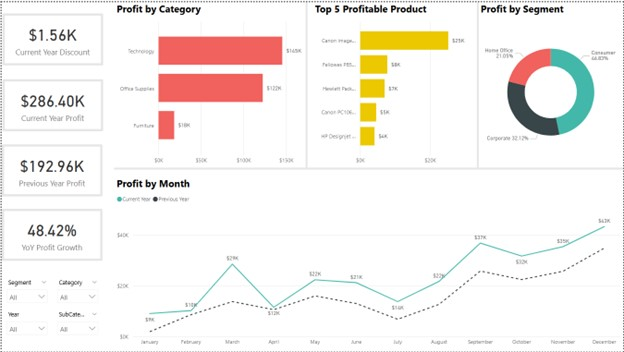

The page's visual inventory and layout, read from the dashboard file:
{"tool":"powerbi","page":{"name":"Profits","canvas":[1280,720],"ordinal":0},"visuals":[{"type":"clusteredBarChart","title":"Profit by Category","fields":{"Category":["superstore.Category"],"Y":["Sum(superstore.Profit)"]},"box":[231.4,0,425.7,342.9],"z":0},{"type":"donutChart","title":"Profit by Segment","fields":{"Category":["superstore.Segment"],"Y":["Sum(superstore.Profit)"]},"box":[981.4,0,298.6,342.9],"z":1000},{"type":"lineChart","title":"Profit by Month","fields":{"Y":["Sum(superstore.Profit)","DateTable.YoY Profit"],"Category":["DateTable.Date.Variation.Date Hierarchy.Month"]},"box":[231.4,360,1048.6,357.1],"z":2000},{"type":"card","fields":{"Values":["DateTable.YoY Profit Growth %"]},"box":[0,425.7,207.1,107.1],"z":4000},{"type":"slicer","fields":{"Values":["superstore.Segment"]},"box":[0,564.3,104.3,65.7],"z":5000},{"type":"clusteredBarChart","title":"Top 5 Profitable Product","fields":{"Y":["Sum(superstore.Profit)"],"Category":["superstore.ProductName"]},"box":[640,0,341.4,342.9],"z":7000},{"type":"shape","box":[231.4,325.7,1048.6,34.3],"z":9000},{"type":"slicer","fields":{"Values":["DateTable.Date.Variation.Date Hierarchy.Year"]},"box":[0,630,104.3,65.7],"z":10000},{"type":"slicer","fields":{"Values":["superstore.Category"]},"box":[104.3,564.3,104.3,65.7],"z":11000},{"type":"slicer","fields":{"Values":["superstore.SubCategory"]},"box":[104.3,630,104.3,65.7],"z":12000},{"type":"shape","box":[911.4,0,138.6,342.9],"z":13000},{"type":"shape","box":[568.6,0,118.6,342.9],"z":14000},{"type":"card","fields":{"Values":["DateTable.YoY Profit"]},"box":[0,292.9,207.1,107.1],"z":15000},{"type":"card","fields":{"Values":["DateTable.Total Profit"]},"box":[1.4,158.6,207.1,107.1],"z":15001},{"type":"card","fields":{"Values":["Sum(superstore.Discount)"]},"box":[1.4,22.9,207.1,107.1],"z":15002}]}

Visuals, with their boxes in screenshot pixels (x1, y1, x2, y2), scaled from the page's 1280x720 canvas onto the 624x352 screenshot:
"Profit by Category" clusteredBarChart: {"x1": 113, "y1": 0, "x2": 320, "y2": 168}
"Profit by Segment" donutChart: {"x1": 478, "y1": 0, "x2": 623, "y2": 168}
"Profit by Month" lineChart: {"x1": 113, "y1": 176, "x2": 623, "y2": 351}
card - DateTable.YoY Profit Growth %: {"x1": 0, "y1": 208, "x2": 101, "y2": 260}
slicer - superstore.Segment: {"x1": 0, "y1": 276, "x2": 51, "y2": 308}
"Top 5 Profitable Product" clusteredBarChart: {"x1": 312, "y1": 0, "x2": 478, "y2": 168}
shape: {"x1": 113, "y1": 159, "x2": 623, "y2": 176}
slicer - DateTable.Date.Variation.Date Hierarchy.Year: {"x1": 0, "y1": 308, "x2": 51, "y2": 340}
slicer - superstore.Category: {"x1": 51, "y1": 276, "x2": 102, "y2": 308}
slicer - superstore.SubCategory: {"x1": 51, "y1": 308, "x2": 102, "y2": 340}
shape: {"x1": 444, "y1": 0, "x2": 512, "y2": 168}
shape: {"x1": 277, "y1": 0, "x2": 335, "y2": 168}
card - DateTable.YoY Profit: {"x1": 0, "y1": 143, "x2": 101, "y2": 196}
card - DateTable.Total Profit: {"x1": 1, "y1": 78, "x2": 102, "y2": 130}
card - Sum(superstore.Discount): {"x1": 1, "y1": 11, "x2": 102, "y2": 64}
